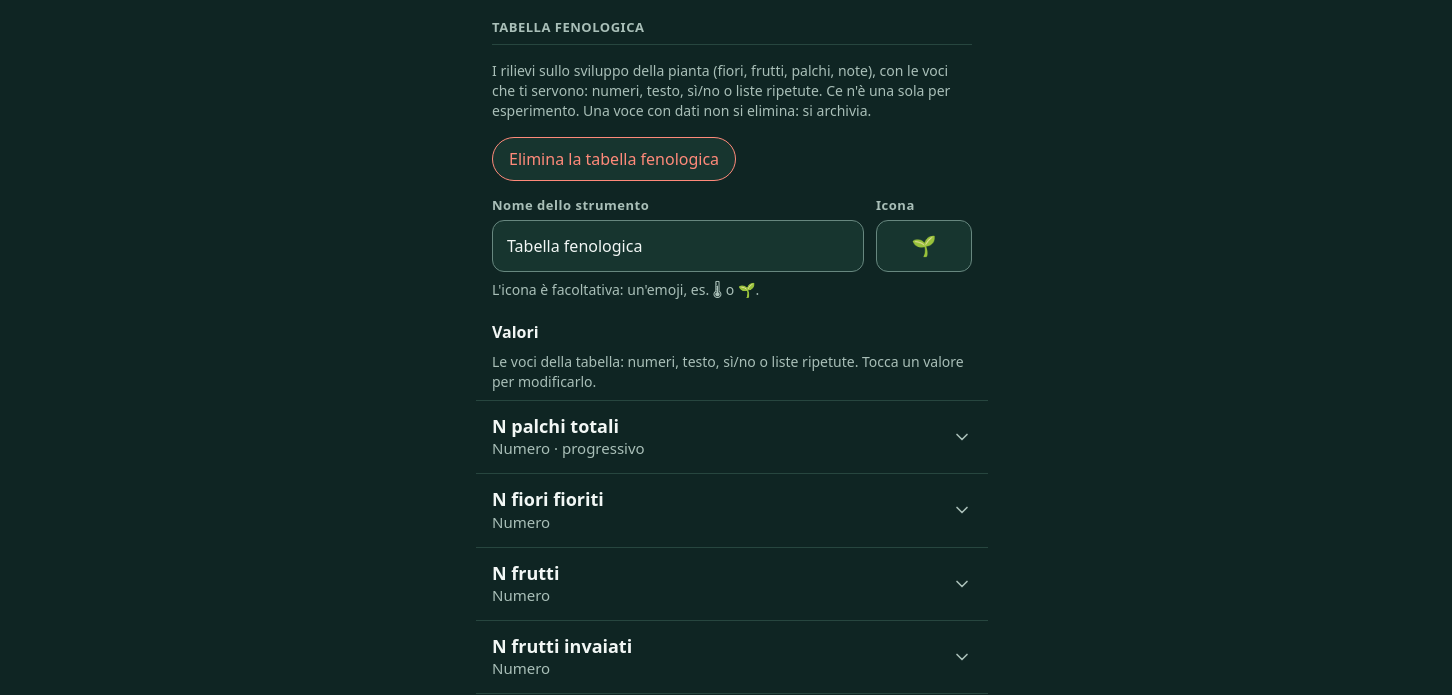
Test case: Impostazioni: dal piano › un valore con dati ha il tipo bloccato e "Archivia il valore"; uno senza dati ha "Elimina il valore"
What coordinates should you click on to do the following:
click the button "N frutti Numero"
I would click on:
 (526, 573)
Its box is 476,548 -> 988,620.
(page scrolled)
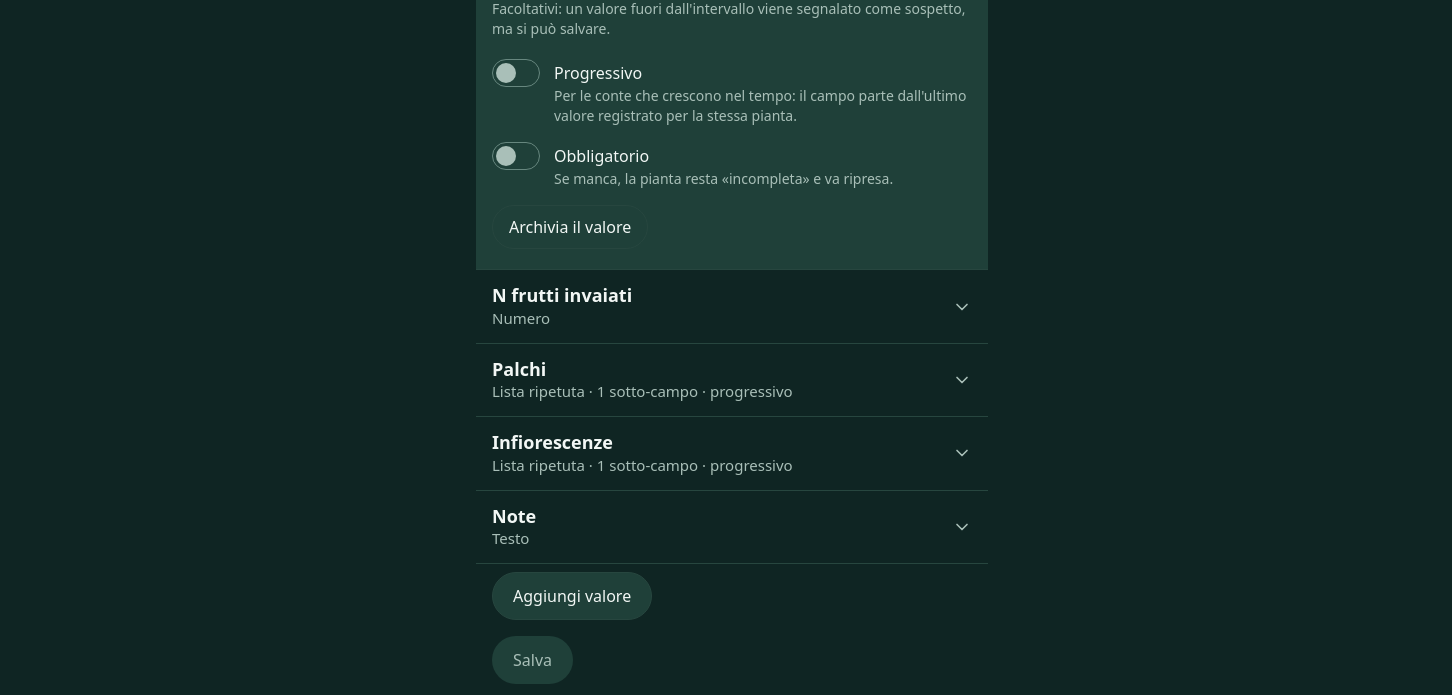
Expected: the button "Elimina il valore" is not shown
Result: the button with aria-label "Archivia il valore «N frutti»" is enabled at 492,205 -> 648,249
What coordinates should you click on to do the following:
click the button "Note Testo"
I would click on:
 (514, 516)
Its box is 476,491 -> 988,563.
(page scrolled)
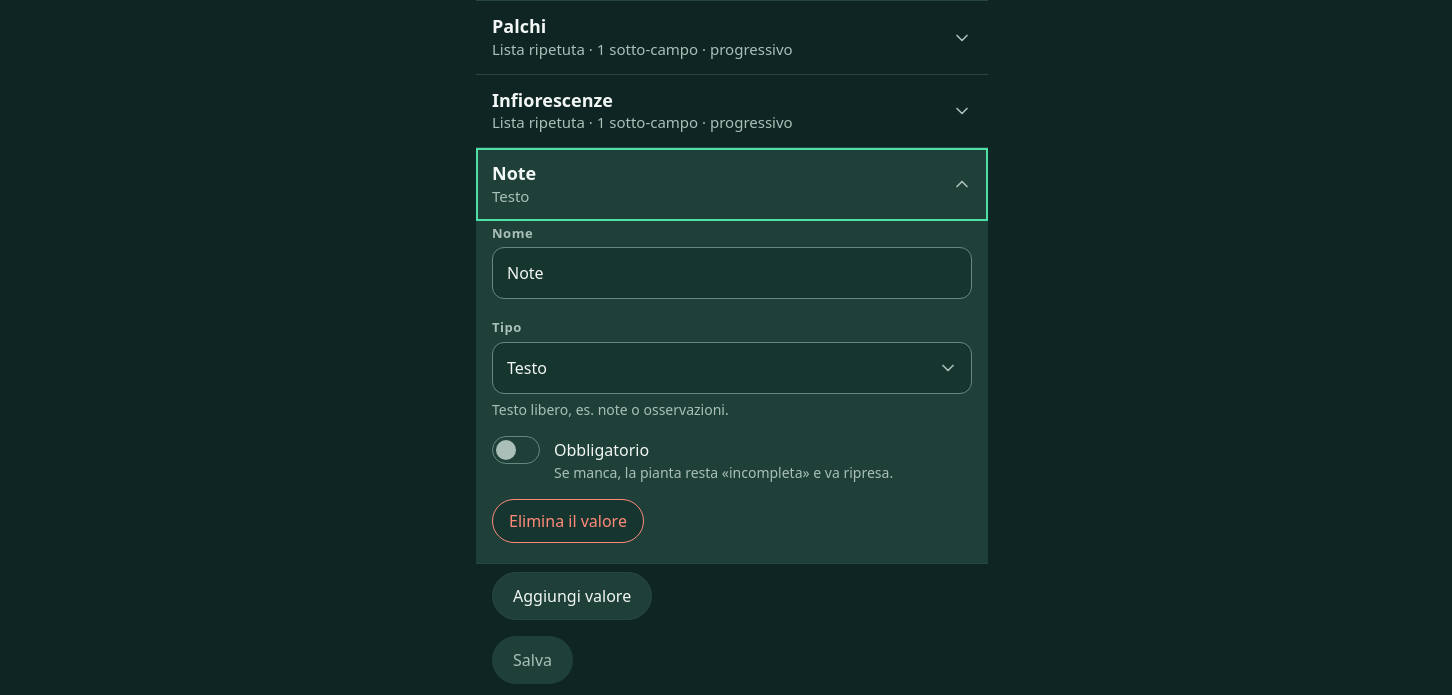
Result: the button with aria-label "Elimina il valore «Note»" is enabled at 492,499 -> 644,543
Result: the dropdown labelled "Tipo" is enabled at 492,342 -> 972,394
Result: the button "Archivia il valore" is gone
